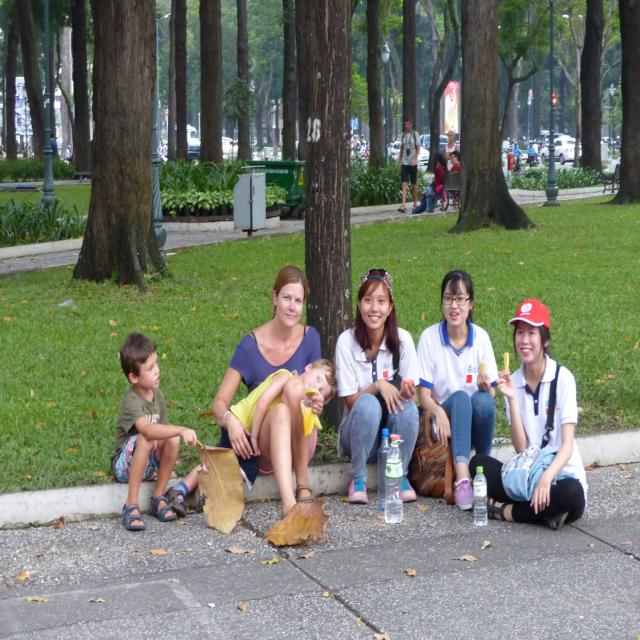body: (0, 127, 621, 200), (210, 264, 326, 521), (468, 295, 590, 532), (164, 356, 340, 516), (412, 264, 504, 515), (334, 267, 420, 504), (110, 332, 198, 530), (398, 117, 422, 213), (424, 153, 448, 213), (442, 127, 460, 174), (444, 150, 461, 199), (511, 142, 524, 168), (526, 139, 536, 166)
